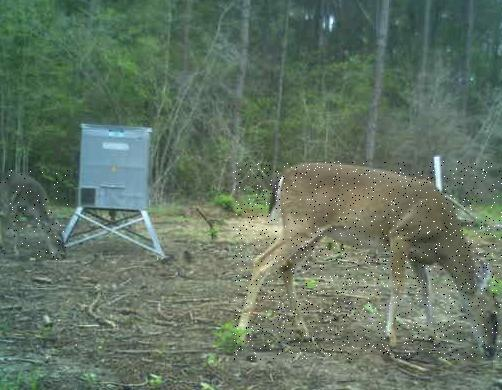Deer: (233, 161, 502, 360), (0, 168, 68, 261)
